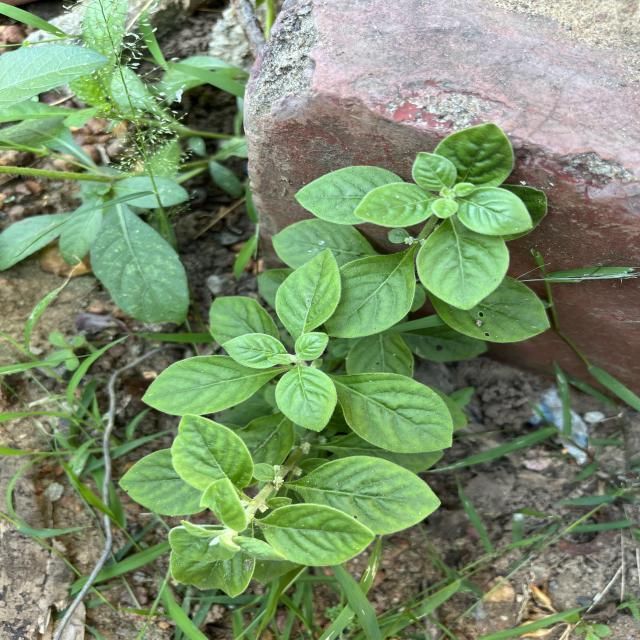Aerva lanata: (292, 453, 444, 538), (332, 370, 457, 457), (138, 352, 286, 418), (321, 246, 418, 340), (274, 364, 339, 434), (217, 331, 292, 371)
